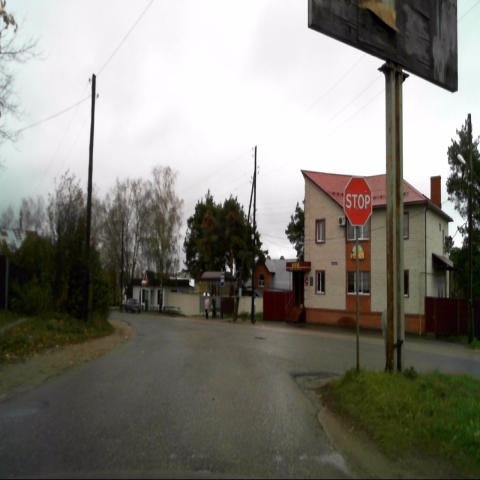2_5: (343, 175, 373, 226)
